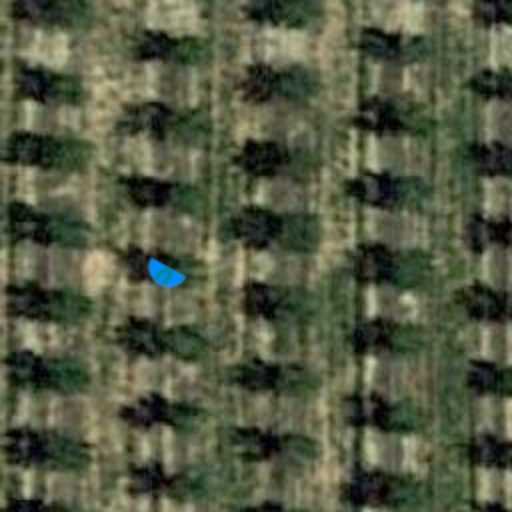semicircle: (136, 248, 192, 304)
